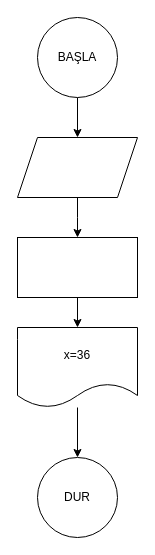
Some shapes in this 155 by 555 pixel diagram are drawn without their labels. The shapes that lost their labels are listed below. From the top down, each one's box as (x1, y1, x2, y2) in pixels, then its label:
(16, 136, 138, 198): giris=x, cıkıs=y, x+y=51, x-y=21,
(16, 236, 138, 298): 32-x+y=11 2x=72
